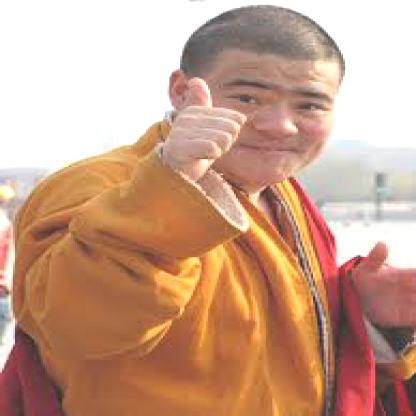Thumbs up: (160, 78, 238, 169)
